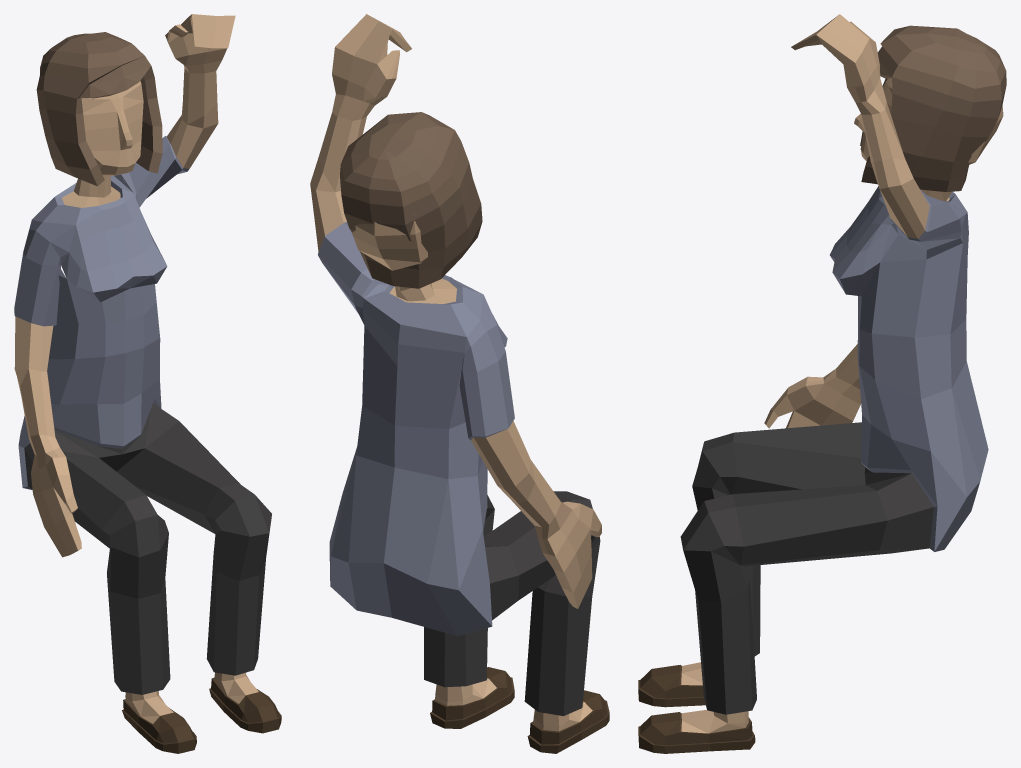
The model's file is female_cheer_hair1.glb.
The picture shows the model from 3 angles, left to right: view 1: azimuth 30°, elevation 25°; view 2: azimuth 150°, elevation 25°; view 3: azimuth 270°, elevation 25°; orthographic projection. The views are drawn at different scales.
Parts seen in each view (by area): view 1: hair; view 2: hair; view 3: hair.
Part boxes in pixels (x1,y1,x2,y2): hair: (14,14,281,753); hair: (310,14,609,753); hair: (638,14,1006,753).
Size of the model in its own units: 0.4828 by 1.46 by 0.6647.
